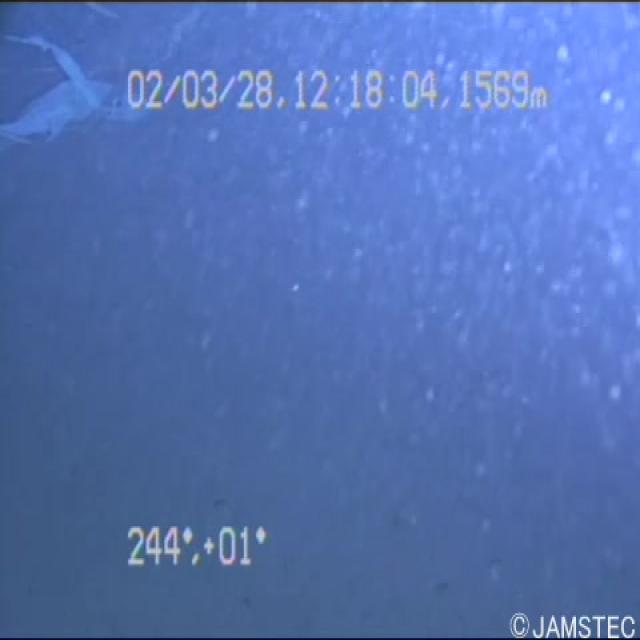plastic: (0, 16, 148, 155)
